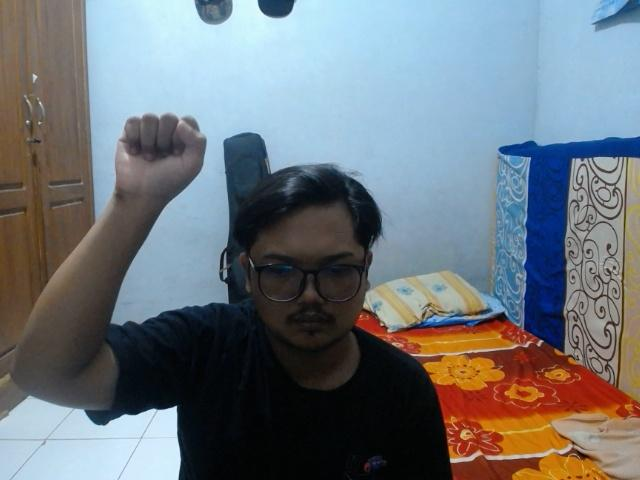Grab: (108, 108, 209, 212)
